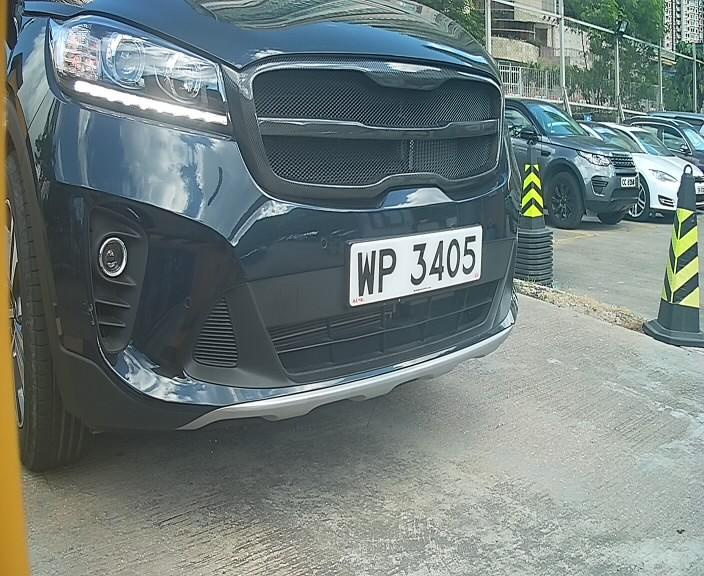privatecar: (4, 8, 569, 448)
